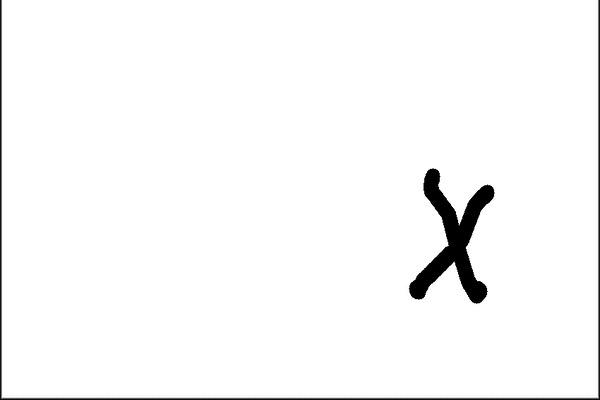X: (383, 157, 529, 316)
